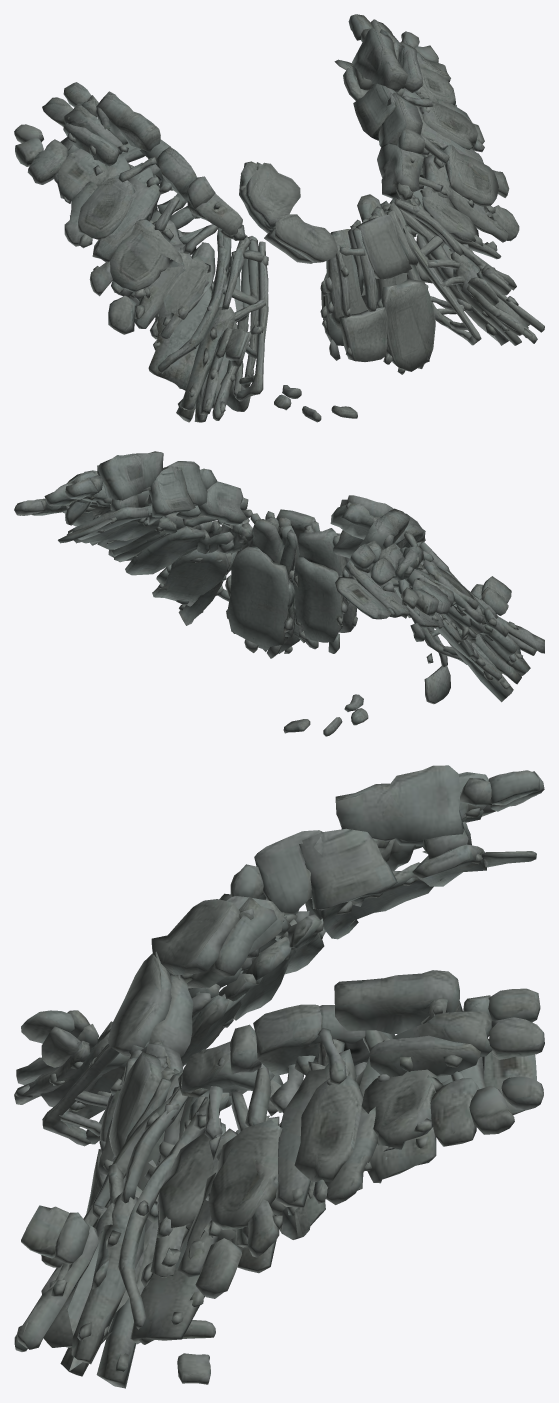
File: ruin-candidate.glb
3 views of the same model, one above another, from view 1: azimuth 30°, elevation 25°; view 2: azimuth 150°, elevation 25°; view 3: azimuth 270°, elevation 25° (orthographic). The views are drawn at different scales.
Size of the model in its own units: 1 by 0.7102 by 0.6955.
Materials: 1 (1 with a texture image).
